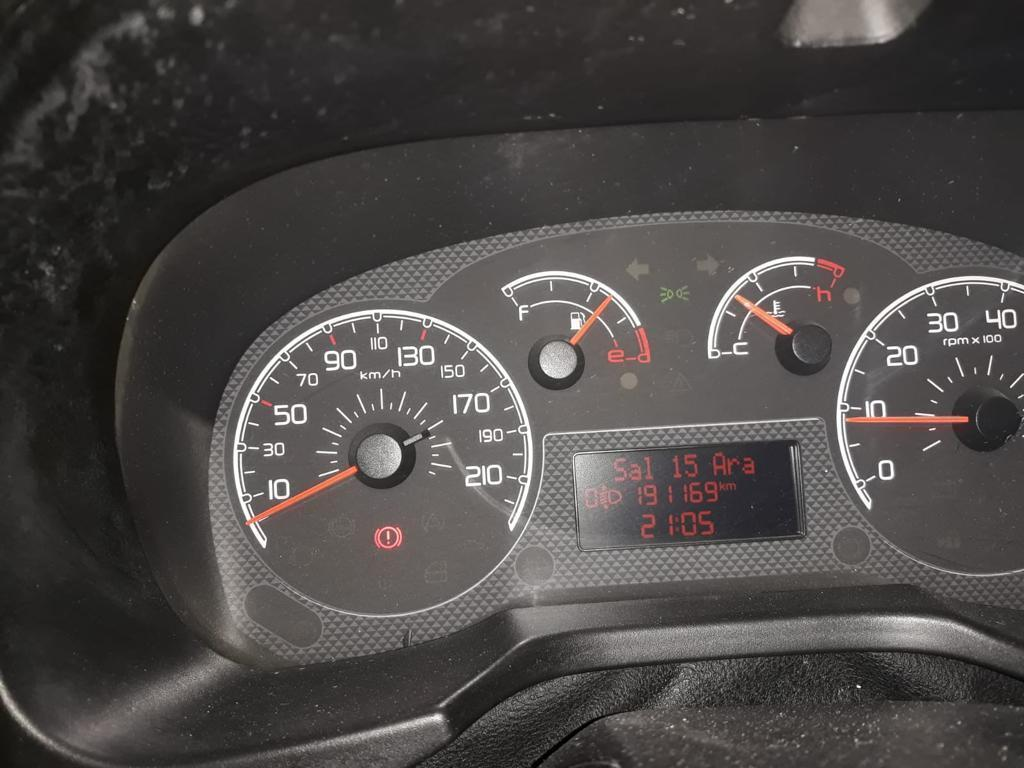0: (682, 510, 696, 536), (584, 487, 599, 508)
1: (672, 454, 682, 480), (666, 512, 675, 539), (666, 483, 676, 504), (682, 481, 689, 505), (636, 484, 643, 505)
2: (640, 512, 656, 539)
5: (697, 509, 715, 535), (684, 452, 700, 478)
6: (689, 480, 703, 504)
9: (704, 480, 718, 502), (644, 483, 657, 506)
X: (712, 450, 726, 477), (612, 456, 626, 481), (742, 455, 757, 476), (643, 454, 655, 480), (727, 455, 740, 475), (629, 462, 641, 480), (726, 480, 736, 492), (675, 513, 680, 534), (719, 478, 725, 491)
odometer: (569, 437, 808, 553)
